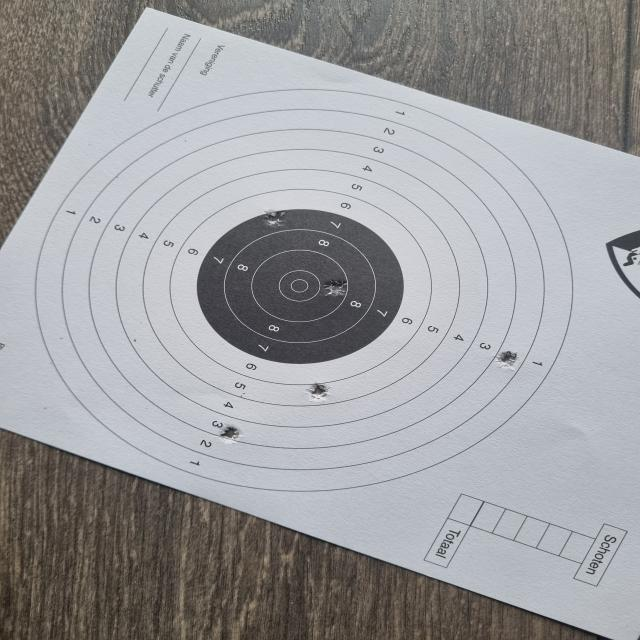3: (494, 348, 518, 371), (218, 424, 243, 445)
6: (304, 383, 331, 401)
7: (262, 210, 286, 227)
9: (323, 279, 347, 298)
Target: (34, 89, 575, 491)
black_contour: (196, 208, 406, 365)
